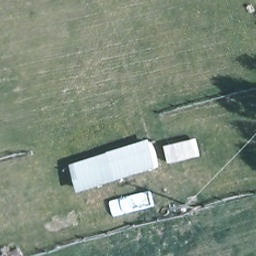camping car: (68, 144, 158, 195)
car: (107, 192, 155, 218)
